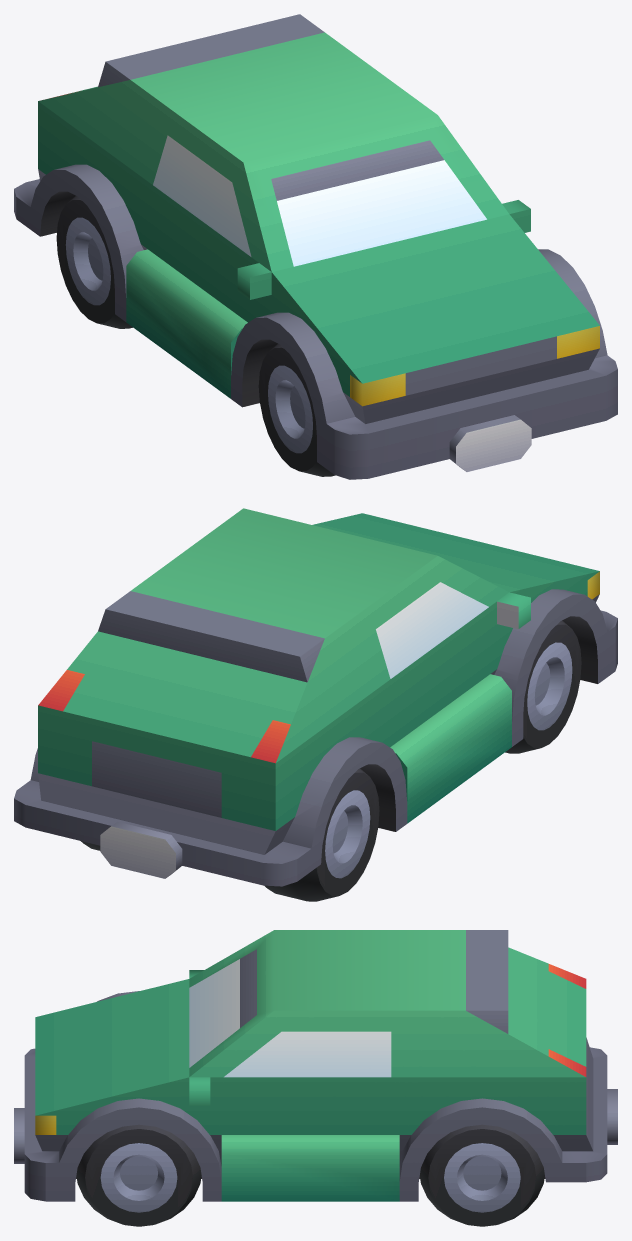
File: kenney-hatchback-sports.glb
3 views of the same model, one above another, from view 1: azimuth 30°, elevation 25°; view 2: azimuth 150°, elevation 25°; view 3: azimuth 270°, elevation 25° (orthographic). The views are drawn at different scales.
Parts seen in each view (by area): view 1: wheel-front-right; view 2: wheel-front-right; view 3: wheel-front-right.
Part boxes in pixels (bbox=[...]): wheel-front-right: bbox=[14, 14, 617, 479]; wheel-front-right: bbox=[14, 508, 617, 901]; wheel-front-right: bbox=[14, 930, 617, 1226].
Bounding box in the file's own units: 1.3 × 1.1 × 2.85.
1 material, 1 textured.
